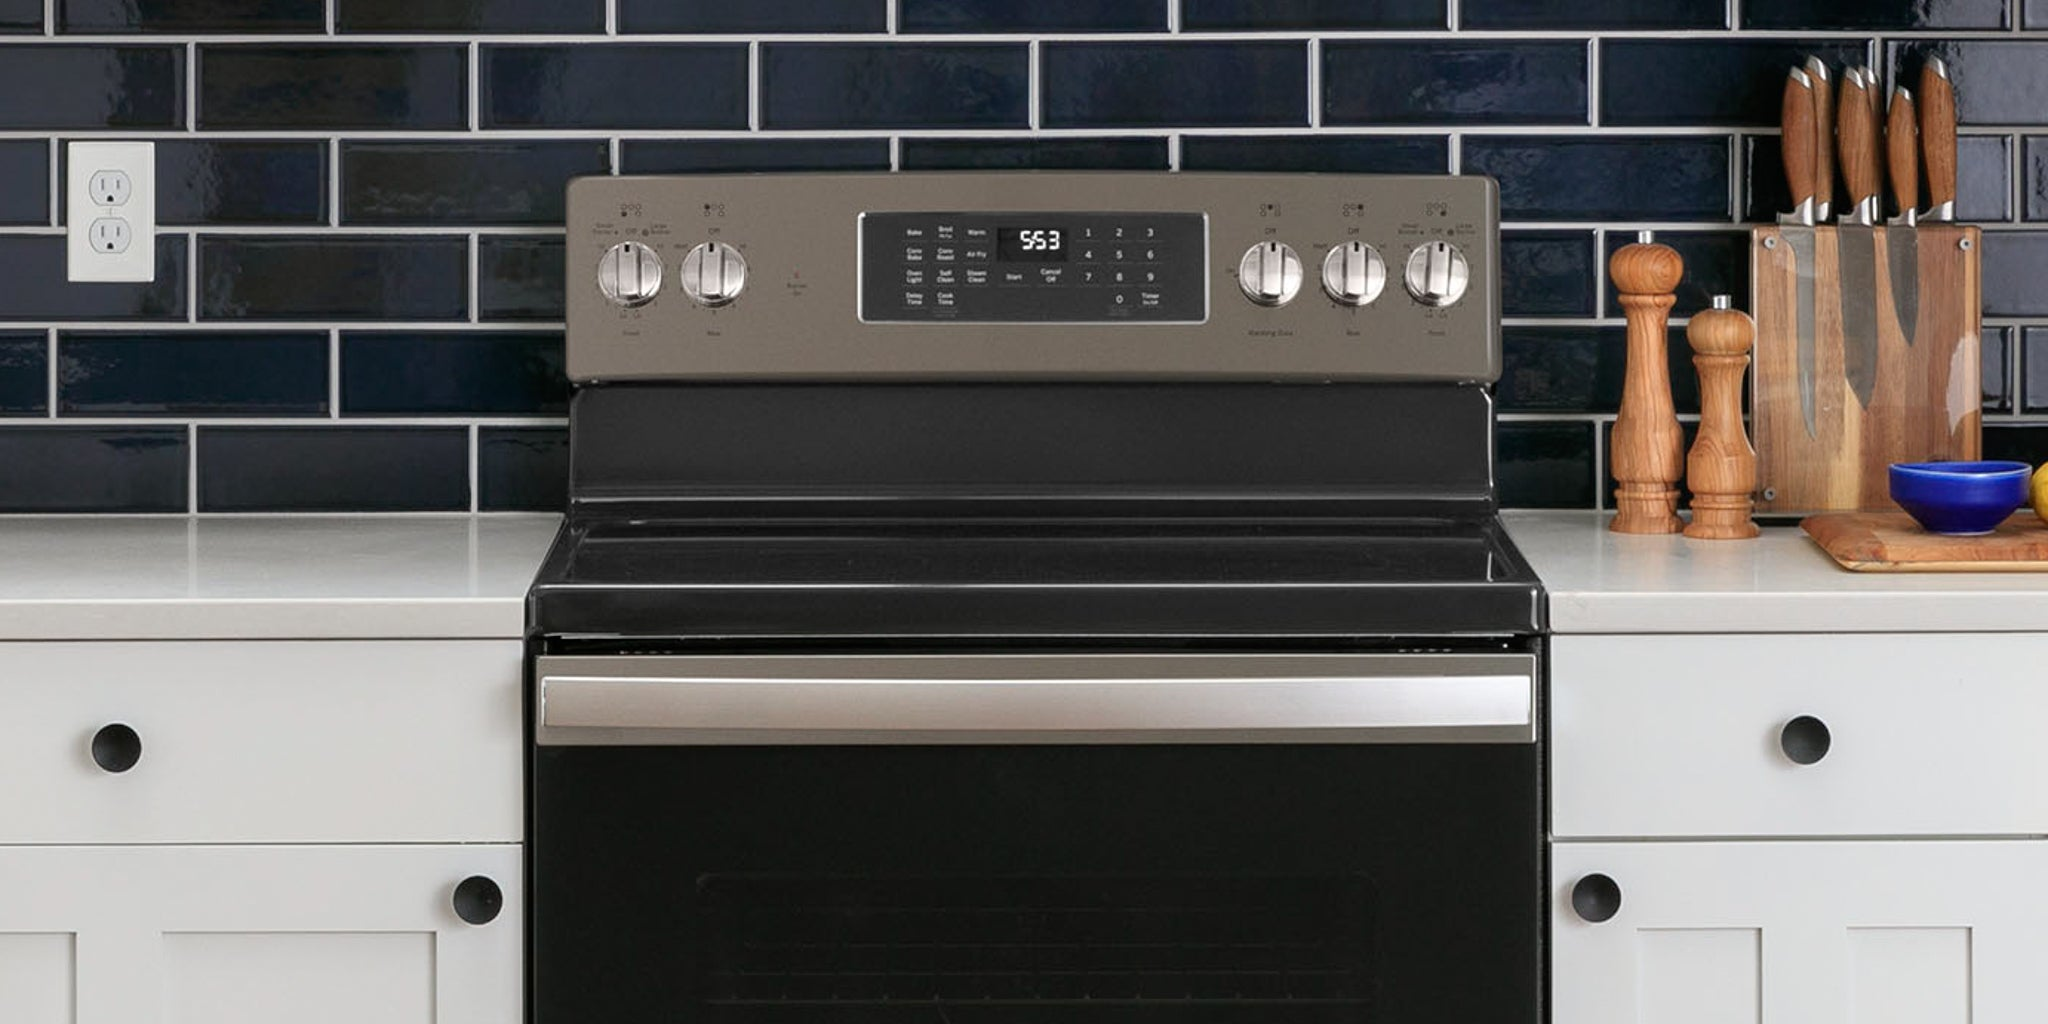stove: (566, 174, 1567, 1024)
